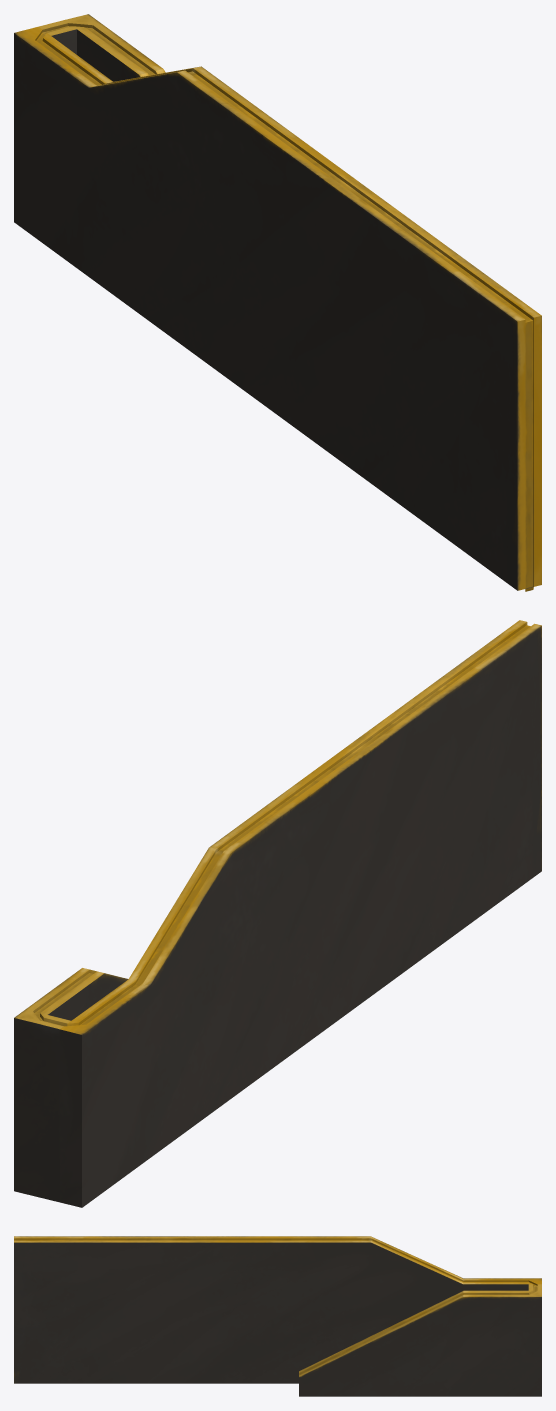
The model's file is RightWall.fbx.
3 renders of one model, top to bottom at view 1: azimuth 30°, elevation 25°; view 2: azimuth 150°, elevation 25°; view 3: azimuth 270°, elevation 25°, orthographic. The views are drawn at different scales.
Visible parts, largest first — view 1: Box071; view 2: Box071; view 3: Box071.
Boxes of the visible parts, x1=… form: Box071: x1=14, y1=14, x2=541, y2=591; Box071: x1=14, y1=620, x2=541, y2=1207; Box071: x1=14, y1=1236, x2=541, y2=1396.
Size of the model in its own units: 7.82 by 27.28 by 91.36.
Materials: 1 (1 with a texture image).
